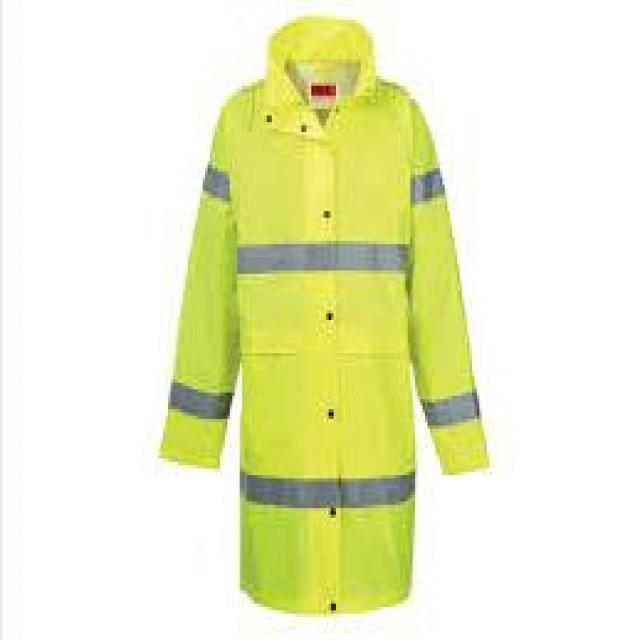Reflective-Jacket: (146, 19, 511, 636)
